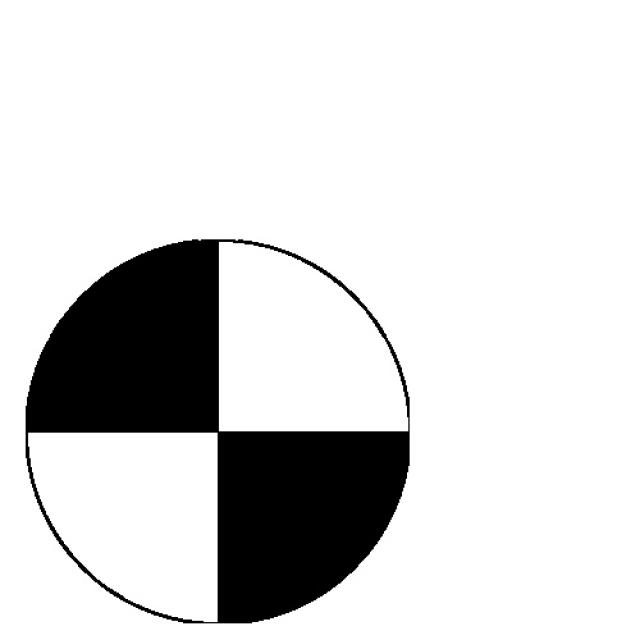Marcadores: (25, 238, 410, 626)
